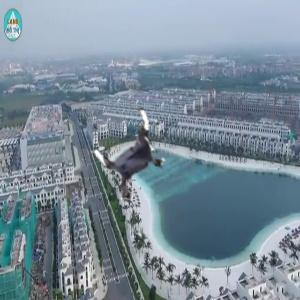drone: (91, 114, 177, 200)
